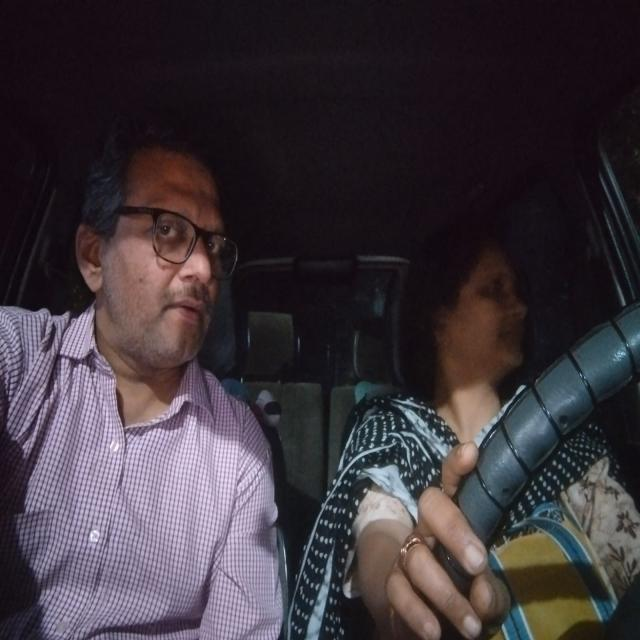LeftRight: (400, 214, 532, 376)
person: (76, 100, 242, 378)
